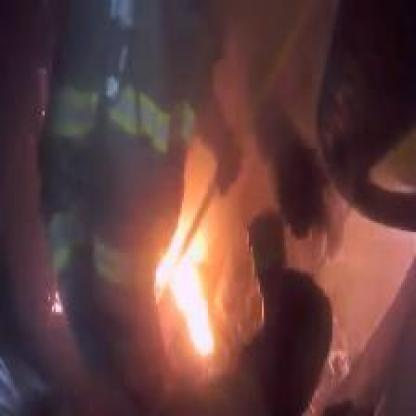fire: (148, 183, 224, 357)
